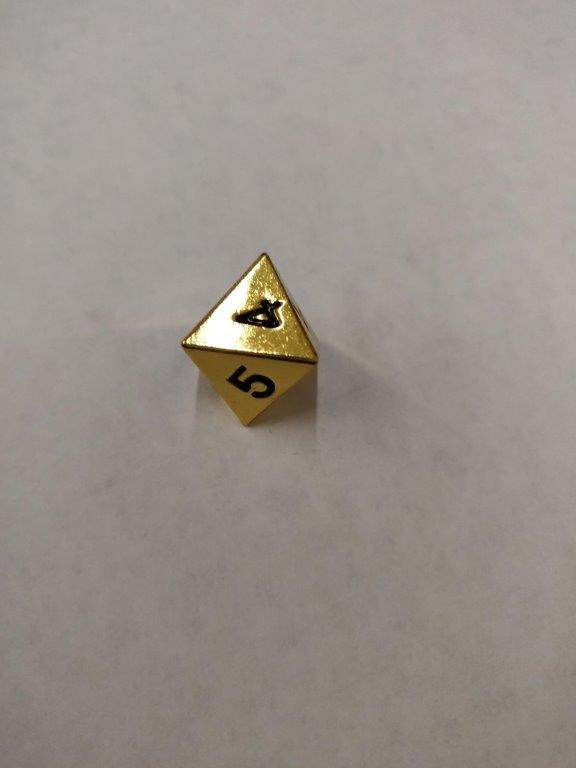d8-4: (183, 252, 323, 429)
